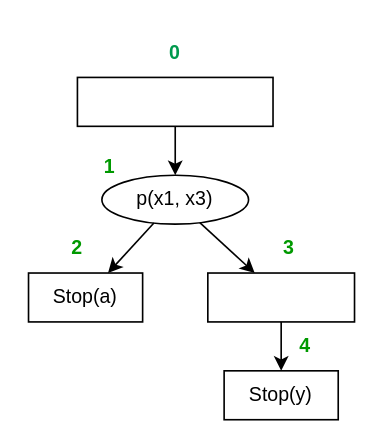
The diagram is 383 pixels wide and 448 high, and some of its shapes have lost their labels. Here are the shapes that lost their labels. From the top down, the centre of each, then its label:
At (x=174, y=101): "Start(x1, x2, x3)".
At (x=280, y=296): "y:=f(x1, x2, x3)".
